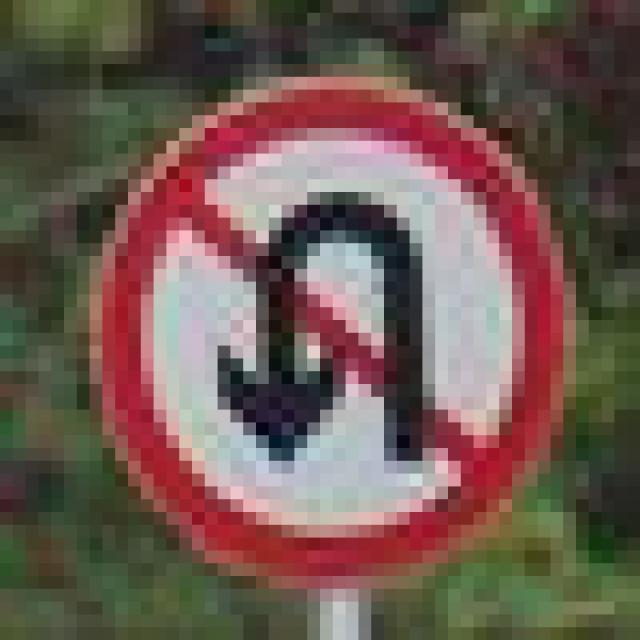U_TURN_PROHIBITED: (71, 41, 580, 600)
